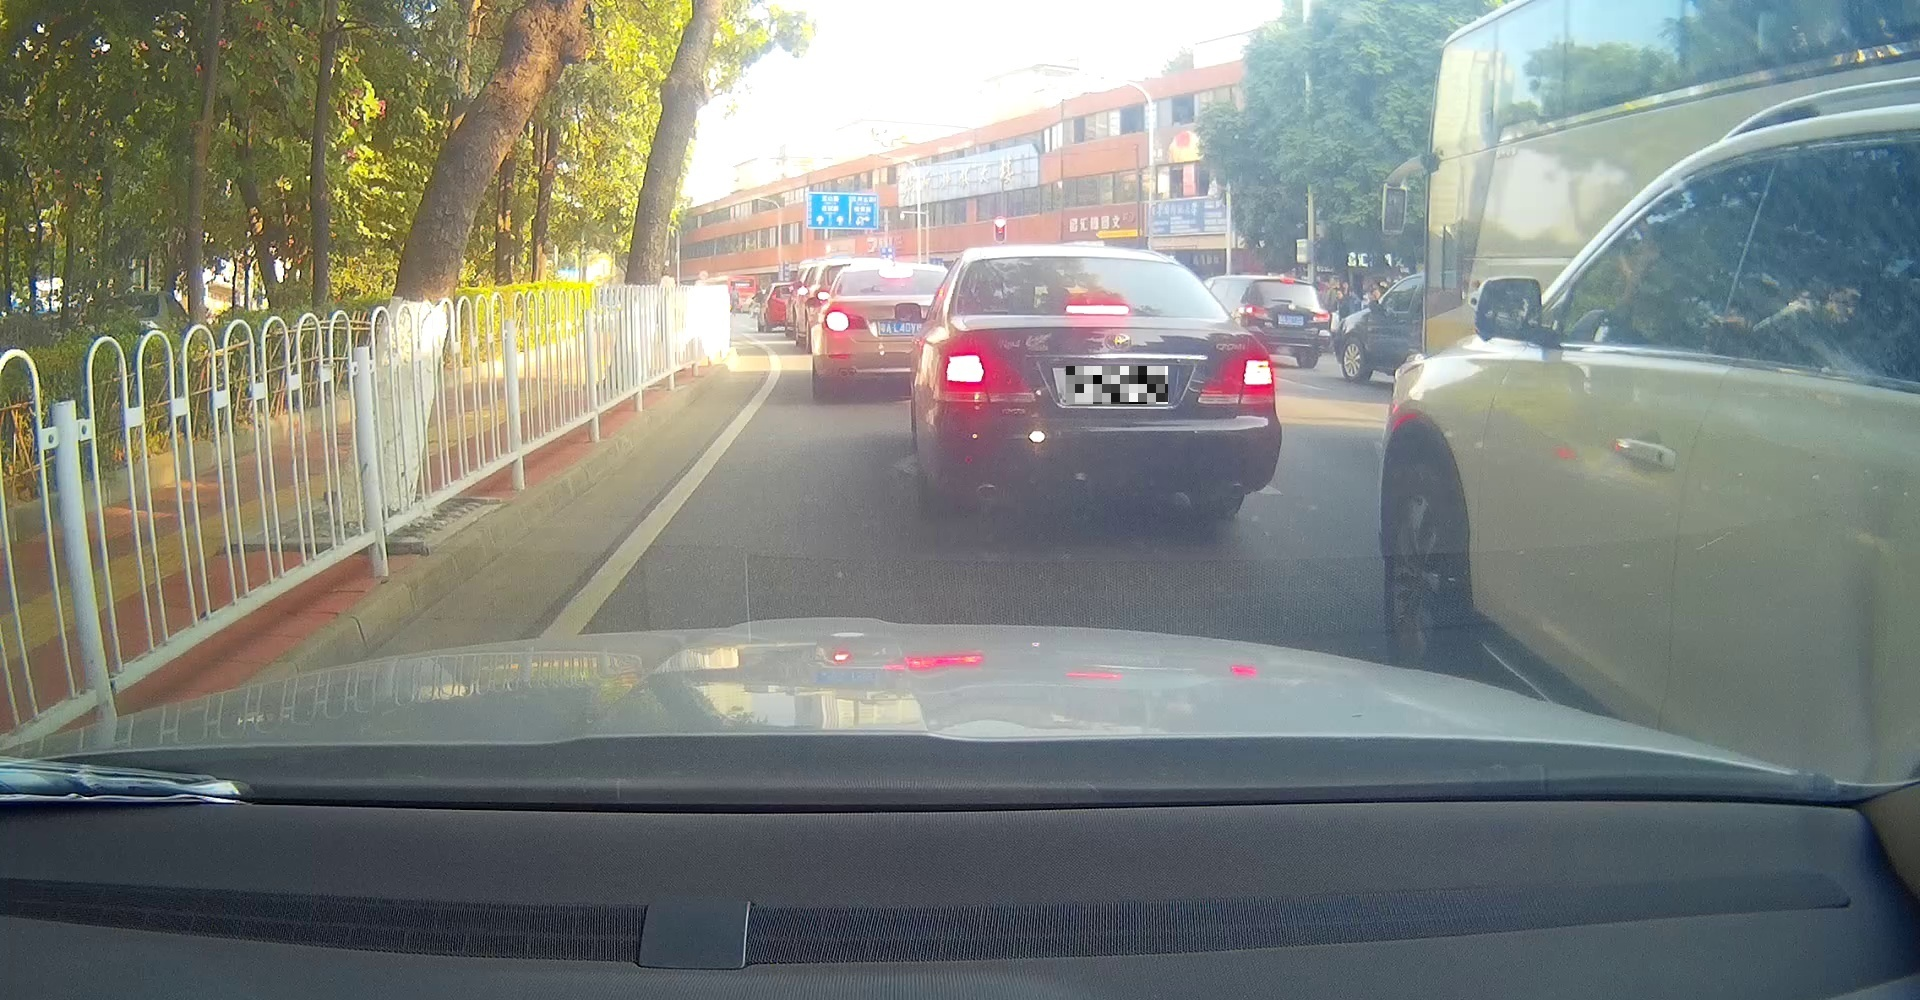L_light: (937, 352, 1034, 401)
R_light: (1196, 353, 1276, 404)
T_light: (1065, 305, 1130, 315)
day-no: (938, 244, 1283, 516)
plate_1: (1065, 365, 1168, 404)
